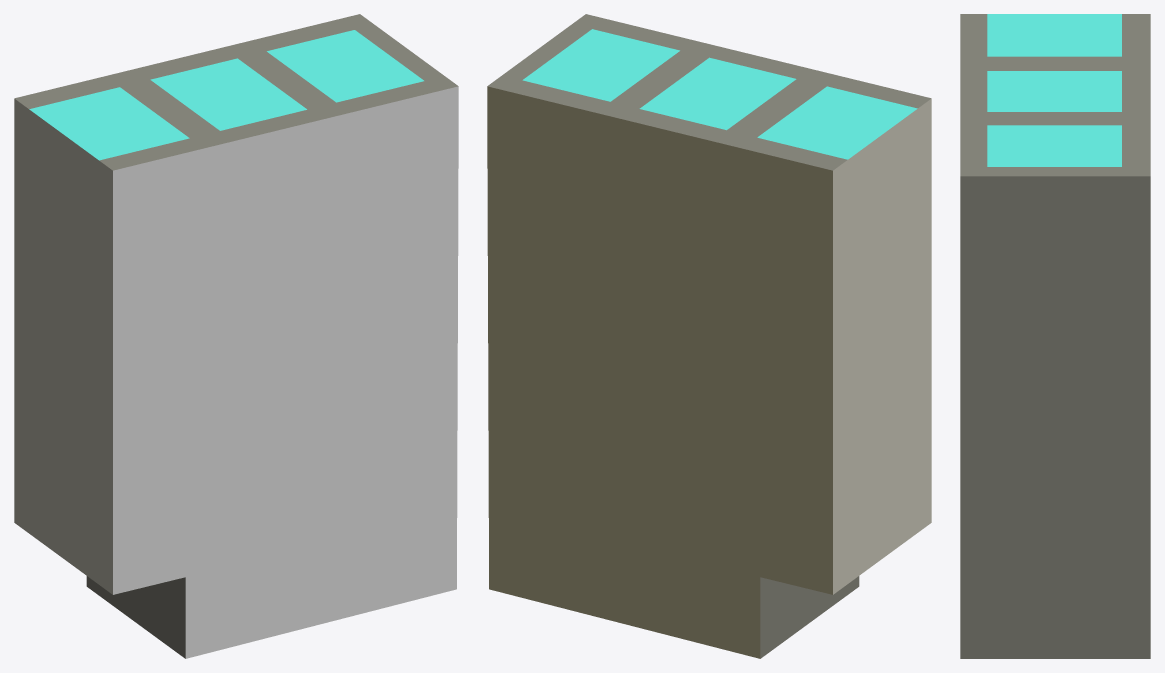
The model's file is CR2_ubersimplified.obj.
3 views of the same model, side by side, from view 1: azimuth 30°, elevation 25°; view 2: azimuth 150°, elevation 25°; view 3: azimuth 270°, elevation 25° (orthographic). The views are drawn at different scales.
Parts seen in each view (by area): view 1: obj14, obj10, obj8, obj4, obj2, obj3, obj5; view 2: obj9, obj10, obj8, obj4, obj2, obj3, obj5; view 3: obj15, obj8, obj4, obj2, obj3.
Boxes of the visible parts, x1=… form: obj14: x1=113, y1=86, x2=458, y2=658; obj10: x1=14, y1=99, x2=112, y2=594; obj8: x1=14, y1=14, x2=458, y2=170; obj4: x1=29, y1=87, x2=189, y2=160; obj2: x1=267, y1=30, x2=423, y2=102; obj3: x1=150, y1=58, x2=306, y2=130; obj5: x1=86, y1=576, x2=185, y2=658; obj9: x1=487, y1=86, x2=832, y2=658; obj10: x1=833, y1=99, x2=931, y2=594; obj8: x1=487, y1=14, x2=931, y2=170; obj4: x1=757, y1=86, x2=917, y2=159; obj2: x1=522, y1=29, x2=679, y2=101; obj3: x1=639, y1=57, x2=796, y2=130; obj5: x1=760, y1=576, x2=859, y2=658; obj15: x1=960, y1=176, x2=1150, y2=658; obj8: x1=960, y1=14, x2=1150, y2=176; obj4: x1=987, y1=14, x2=1121, y2=56; obj2: x1=987, y1=125, x2=1121, y2=166; obj3: x1=987, y1=71, x2=1121, y2=111.
Size of the model in its own units: 238 by 332 by 118.
